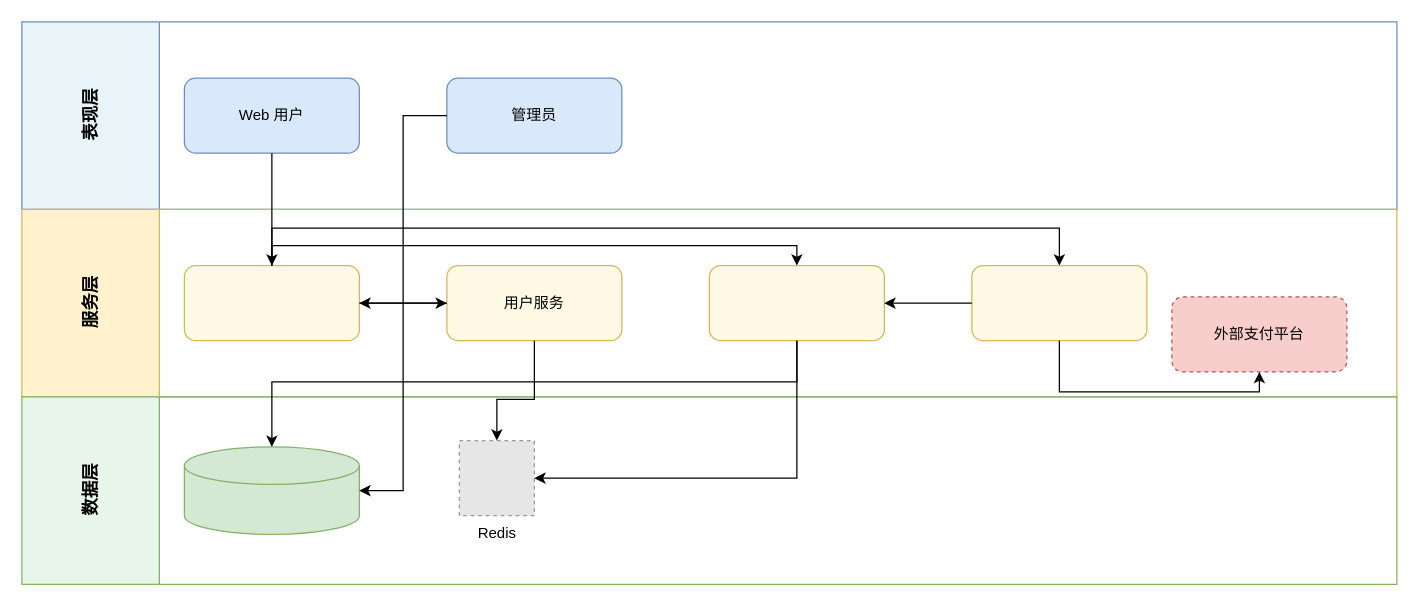
Image size: 1419x606. Some labels were removed from this diagram. Grey dashed boxes stand in for pictures. Each missing label, with the centre of its shape:
"API Gateway" goes at (x=271, y=302).
"MySQL" goes at (x=271, y=490).
"支付服务" goes at (x=1059, y=302).
"订单服务" goes at (x=796, y=302).
